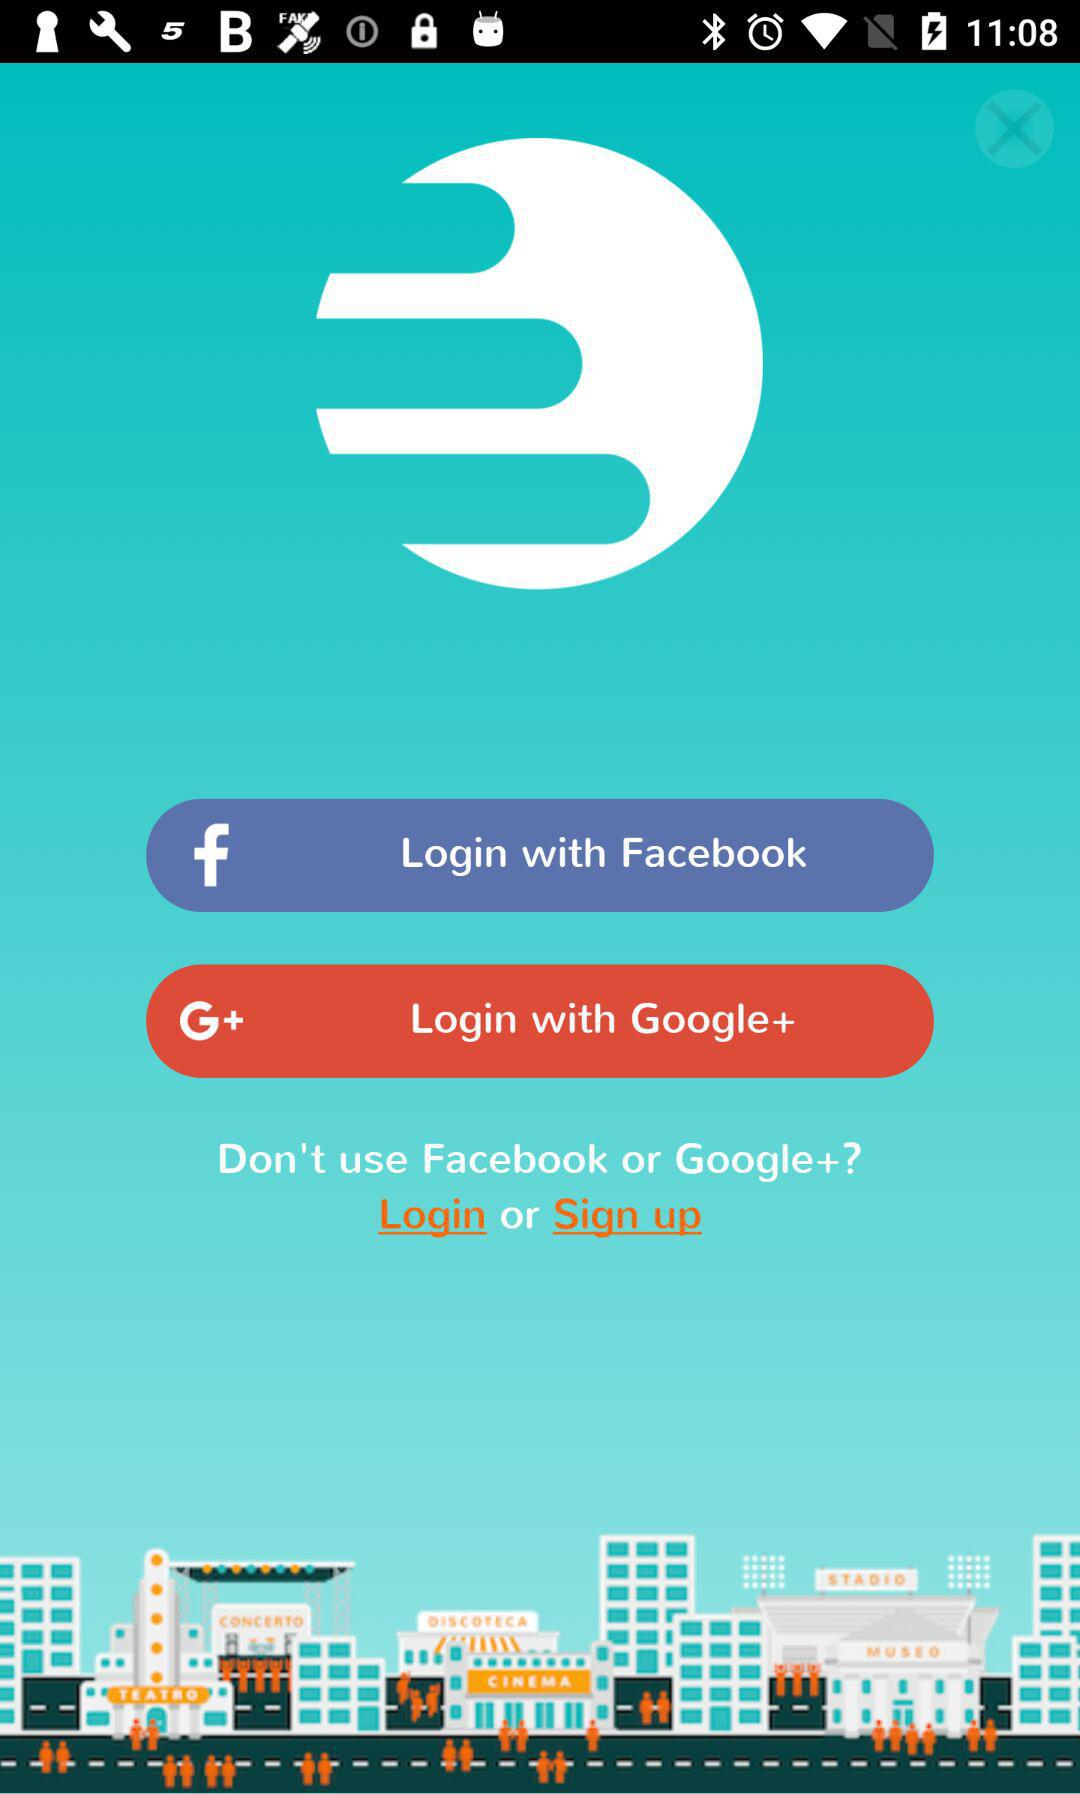Icon: (972, 88, 1056, 170)
Image: (1, 1529, 1080, 1794), (316, 137, 765, 591)
Text: (219, 1140, 862, 1184), (377, 1196, 705, 1240)
TextButton: (146, 964, 935, 1080), (146, 798, 935, 914)
UpperTaskBar: (1, 1, 1080, 64)
